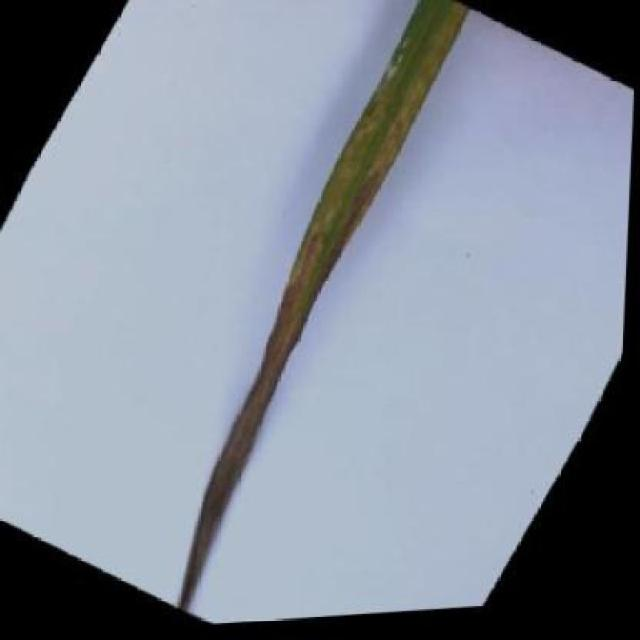Rice False Smut: (98, 0, 525, 622)
